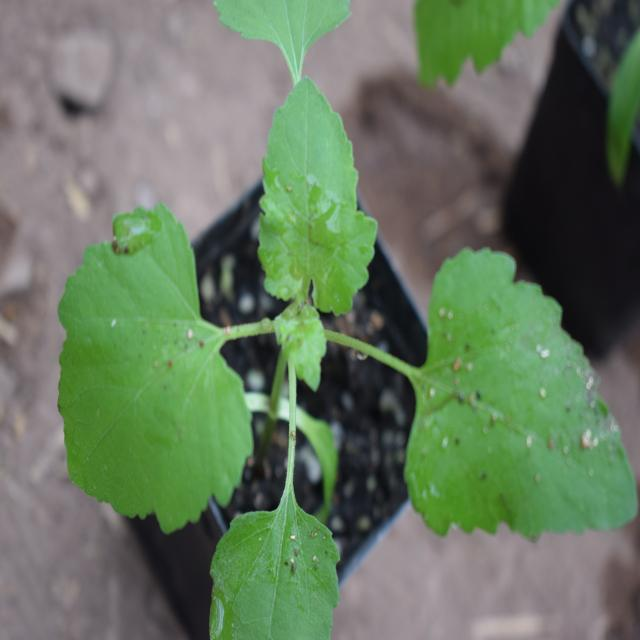cocklebur: (96, 129, 606, 606)
